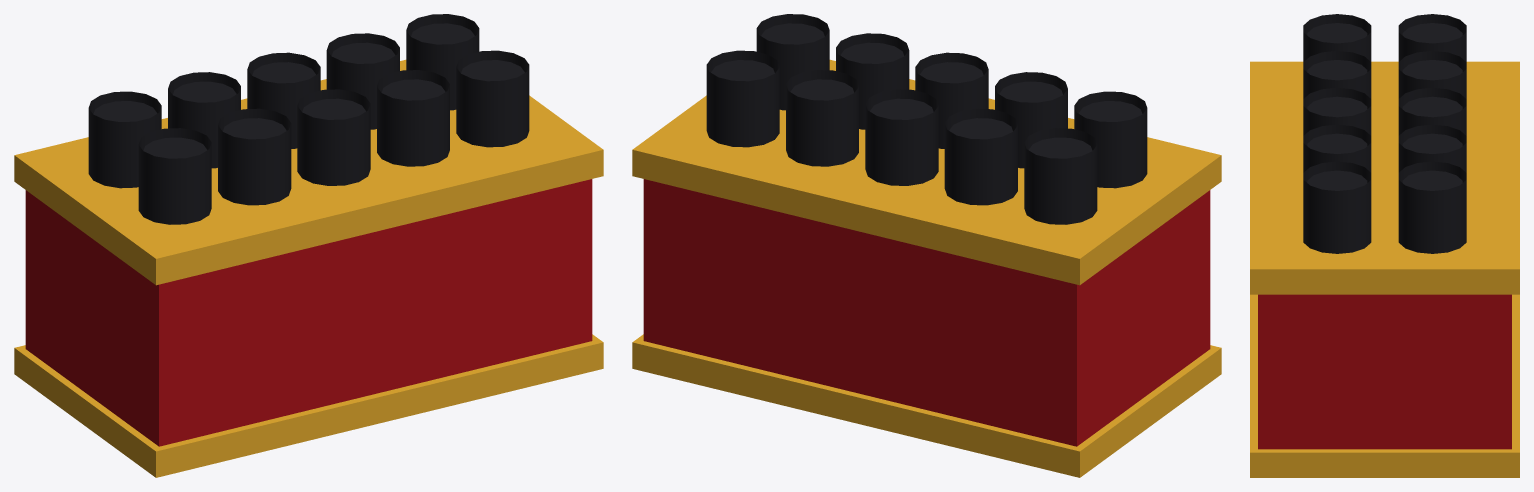
Rendered from firecracker_skyshots_10x.fbx.
The picture shows the model from 3 angles, left to right: view 1: azimuth 30°, elevation 25°; view 2: azimuth 150°, elevation 25°; view 3: azimuth 270°, elevation 25°; orthographic projection. The views are drawn at different scales.
Parts seen in each view (by area): view 1: Battery_Casing, Battery_Trim_Top, Battery_Trim_Bottom, Mortar_Tube_06, Mortar_Tube_07, Mortar_Tube_08, Mortar_Tube_10, Mortar_Tube_09, Mortar_Tube_01, Mortar_Tube_04, Mortar_Tube_05, Mortar_Tube_03 (+1 smaller); view 2: Battery_Casing, Battery_Trim_Top, Battery_Trim_Bottom, Mortar_Tube_01, Mortar_Tube_02, Mortar_Tube_03, Mortar_Tube_05, Mortar_Tube_04, Mortar_Tube_06, Mortar_Tube_09, Mortar_Tube_10, Mortar_Tube_08 (+1 smaller); view 3: Battery_Casing, Battery_Trim_Top, Battery_Trim_Bottom, Mortar_Tube_05, Mortar_Tube_10, Mortar_Tube_04, Mortar_Tube_09, Mortar_Tube_01, Mortar_Tube_06, Mortar_Tube_02, Mortar_Tube_07, Mortar_Tube_03 (+1 smaller).
Part boxes in pixels (x1,y1,x2,y2): Battery_Casing: (25,179,592,446); Battery_Trim_Top: (14,59,603,285); Battery_Trim_Bottom: (14,334,603,477); Mortar_Tube_06: (138,128,211,224); Mortar_Tube_07: (218,108,291,205); Mortar_Tube_08: (297,89,370,185); Mortar_Tube_10: (456,50,529,147); Mortar_Tube_09: (377,70,449,166); Mortar_Tube_01: (88,91,161,188); Mortar_Tube_04: (326,33,399,129); Mortar_Tube_05: (406,14,479,110); Mortar_Tube_03: (247,52,320,148); Battery_Casing: (643,179,1210,446); Battery_Trim_Top: (632,59,1221,285); Battery_Trim_Bottom: (632,334,1221,477); Mortar_Tube_01: (1024,128,1097,224); Mortar_Tube_02: (944,108,1017,205); Mortar_Tube_03: (865,89,938,185); Mortar_Tube_05: (706,50,779,147); Mortar_Tube_04: (786,70,858,166); Mortar_Tube_06: (1074,91,1147,188); Mortar_Tube_09: (836,33,909,129); Mortar_Tube_10: (756,14,829,110); Mortar_Tube_08: (915,52,988,148); Battery_Casing: (1258,294,1511,449); Battery_Trim_Top: (1250,61,1519,294); Battery_Trim_Bottom: (1250,294,1519,477); Mortar_Tube_05: (1398,161,1466,253); Mortar_Tube_10: (1303,161,1371,253); Mortar_Tube_04: (1398,124,1466,172); Mortar_Tube_09: (1303,124,1371,172); Mortar_Tube_01: (1398,14,1466,61); Mortar_Tube_06: (1303,14,1371,61); Mortar_Tube_02: (1398,51,1466,98); Mortar_Tube_07: (1303,51,1371,98); Mortar_Tube_03: (1398,87,1466,135).
Size of what is drawn, in the model's own units: 0.62 by 0.38 by 0.34.
